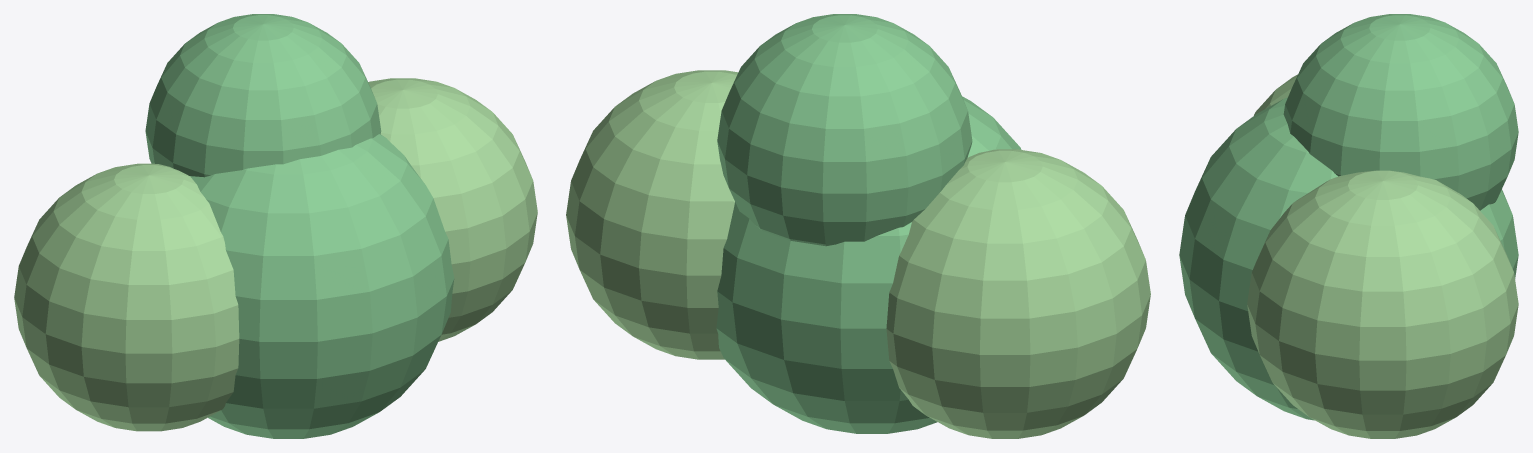
Rendered from bush.glb.
3 renders of one model, left to right at view 1: azimuth 30°, elevation 25°; view 2: azimuth 150°, elevation 25°; view 3: azimuth 270°, elevation 25°, orthographic. The views are drawn at different scales.
Parts seen in each view (by area): view 1: Bs1, Bs3, Bs4, Bs2; view 2: Bs3, Bs4, Bs2, Bs1; view 3: Bs2, Bs4, Bs1, Bs3.
Boxes of the visible parts, x1,y1,x2,y2 form: Bs1: (190,134,454,438); Bs3: (14,163,239,431); Bs4: (145,14,381,177); Bs2: (368,78,537,341); Bs3: (886,149,1150,438); Bs4: (717,14,972,246); Bs2: (566,70,738,359); Bs1: (716,96,1021,433); Bs2: (1247,170,1518,438); Bs4: (1283,14,1518,210); Bs1: (1179,97,1518,420); Bs3: (1254,74,1297,115).
Bounding box in the file's own units: 1.69 × 1.25 × 1.
